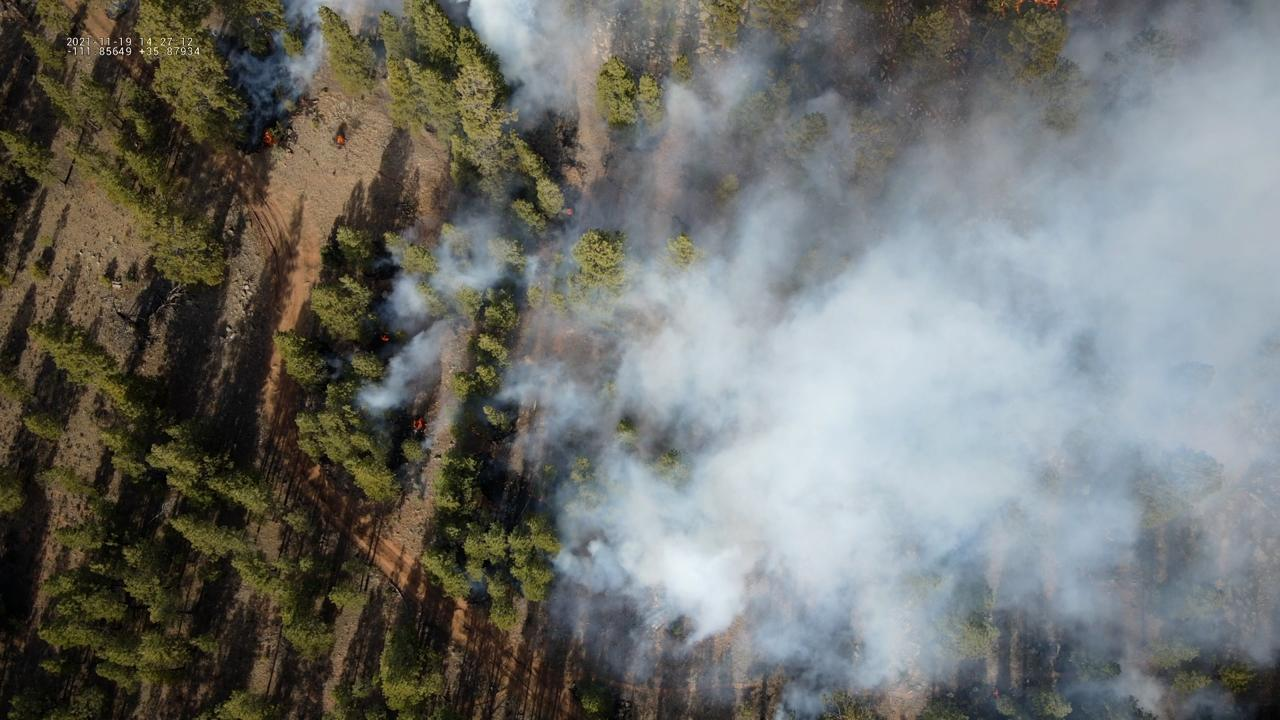fire: (412, 417, 424, 431), (264, 129, 273, 145), (380, 334, 390, 344), (334, 135, 345, 144), (564, 207, 575, 216), (992, 688, 1001, 698)
smoke: (351, 0, 1280, 720), (222, 0, 333, 143), (317, 345, 359, 382)
